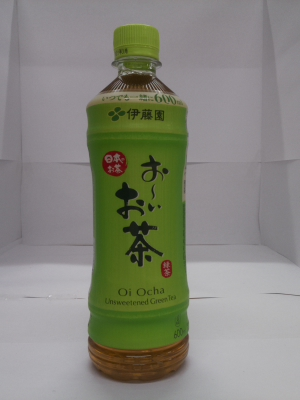hey_tea: (64, 17, 203, 392)
